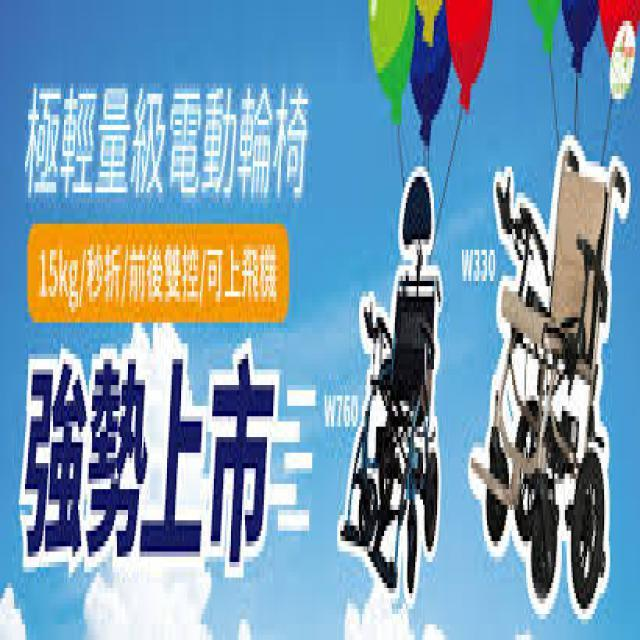wheelchair: (467, 115, 632, 624), (334, 150, 448, 630)
